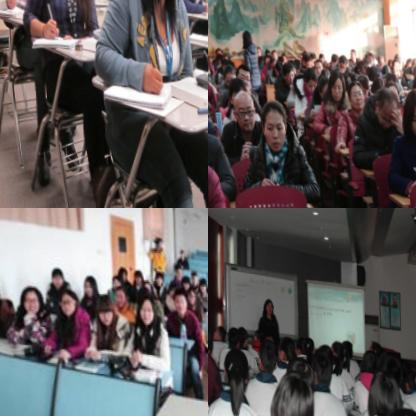head: (269, 360, 314, 416), (256, 97, 290, 152), (219, 340, 247, 401), (365, 362, 399, 408), (285, 349, 314, 393), (229, 88, 256, 132), (372, 82, 399, 125), (378, 391, 416, 416), (254, 333, 277, 374), (308, 345, 330, 383), (16, 282, 42, 314), (91, 288, 113, 322), (135, 290, 156, 323), (403, 82, 416, 134), (54, 283, 77, 312), (327, 66, 347, 99), (273, 329, 293, 361), (357, 342, 376, 372), (346, 75, 364, 106), (379, 346, 399, 373), (225, 76, 243, 105), (169, 282, 187, 310), (219, 60, 234, 87), (317, 335, 332, 362), (234, 63, 249, 89), (300, 65, 315, 91), (381, 73, 397, 97), (293, 330, 307, 357), (401, 362, 415, 389), (78, 267, 93, 292), (232, 319, 247, 344), (365, 328, 380, 352), (315, 72, 329, 97), (224, 320, 238, 345), (301, 328, 314, 354), (46, 263, 62, 284), (355, 71, 370, 93), (396, 351, 410, 373), (329, 333, 341, 357), (338, 328, 350, 352), (280, 59, 293, 81), (335, 49, 347, 72), (111, 281, 124, 302), (139, 272, 152, 293), (182, 279, 195, 300), (238, 25, 251, 44), (164, 274, 176, 294), (108, 266, 121, 284), (248, 323, 261, 341), (130, 259, 141, 280), (114, 261, 126, 279), (170, 257, 182, 275), (210, 321, 222, 339), (261, 293, 271, 311), (406, 48, 416, 65), (197, 269, 206, 287), (311, 54, 320, 71), (374, 45, 383, 62), (301, 52, 311, 67), (365, 45, 374, 61), (254, 39, 262, 56), (411, 65, 416, 92), (151, 265, 160, 280), (187, 261, 196, 276), (327, 47, 335, 63), (291, 53, 299, 69), (271, 56, 279, 71), (153, 228, 161, 243), (180, 269, 188, 284), (176, 240, 185, 253), (411, 55, 416, 77), (260, 50, 268, 63), (348, 44, 356, 57), (412, 355, 416, 381), (268, 44, 276, 56), (265, 54, 274, 64)
